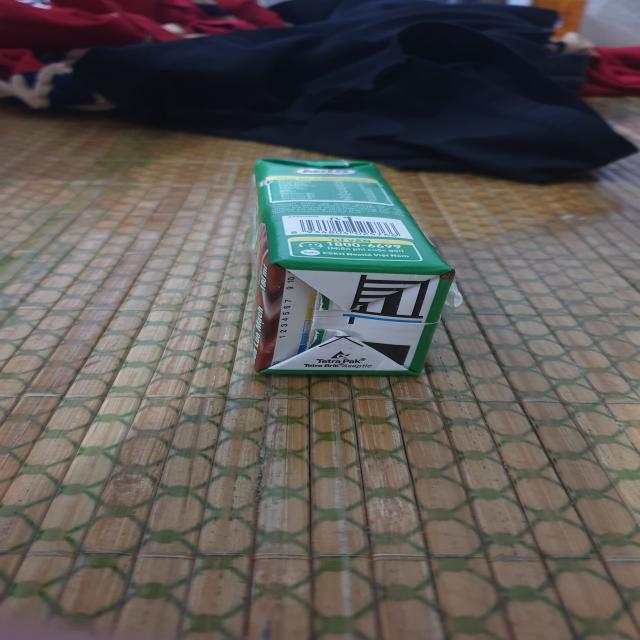Milo: (247, 157, 462, 378)
